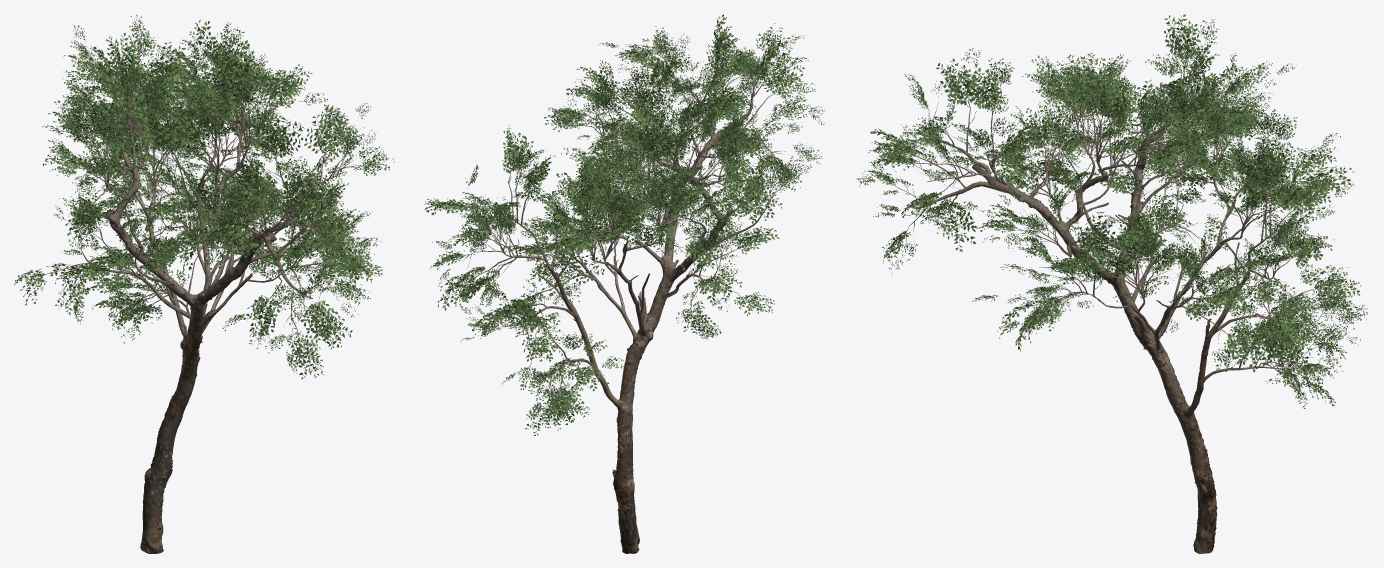
The model's file is TreeSmall02.glb.
3 renders of one model, left to right at view 1: azimuth 30°, elevation 25°; view 2: azimuth 150°, elevation 25°; view 3: azimuth 270°, elevation 25°, orthographic. The views are drawn at different scales.
Parts seen in each view (by area): view 1: Tree Small 02; view 2: Tree Small 02; view 3: Tree Small 02.
Part boxes in pixels (x1,y1,x2,y2): Tree Small 02: (14,14,394,553); Tree Small 02: (424,14,824,553); Tree Small 02: (857,14,1369,553).
Size of the model in its own units: 2.92 by 4.56 by 4.28.
3 materials, 3 textured.
